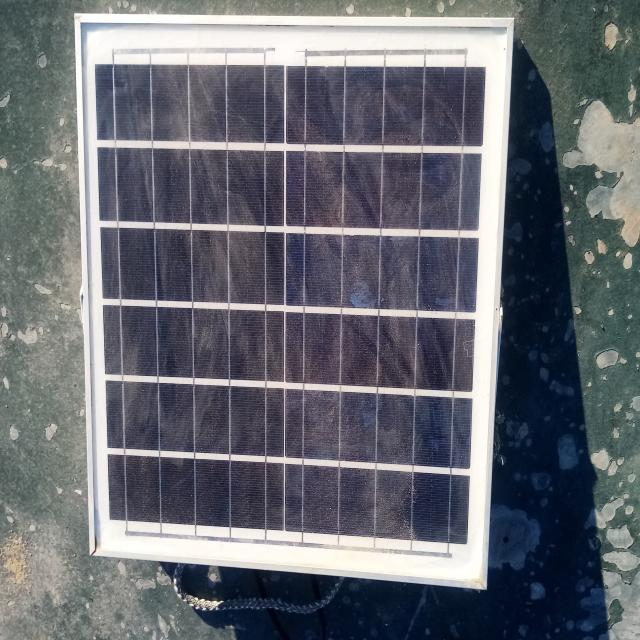faulty: (77, 16, 509, 585)
